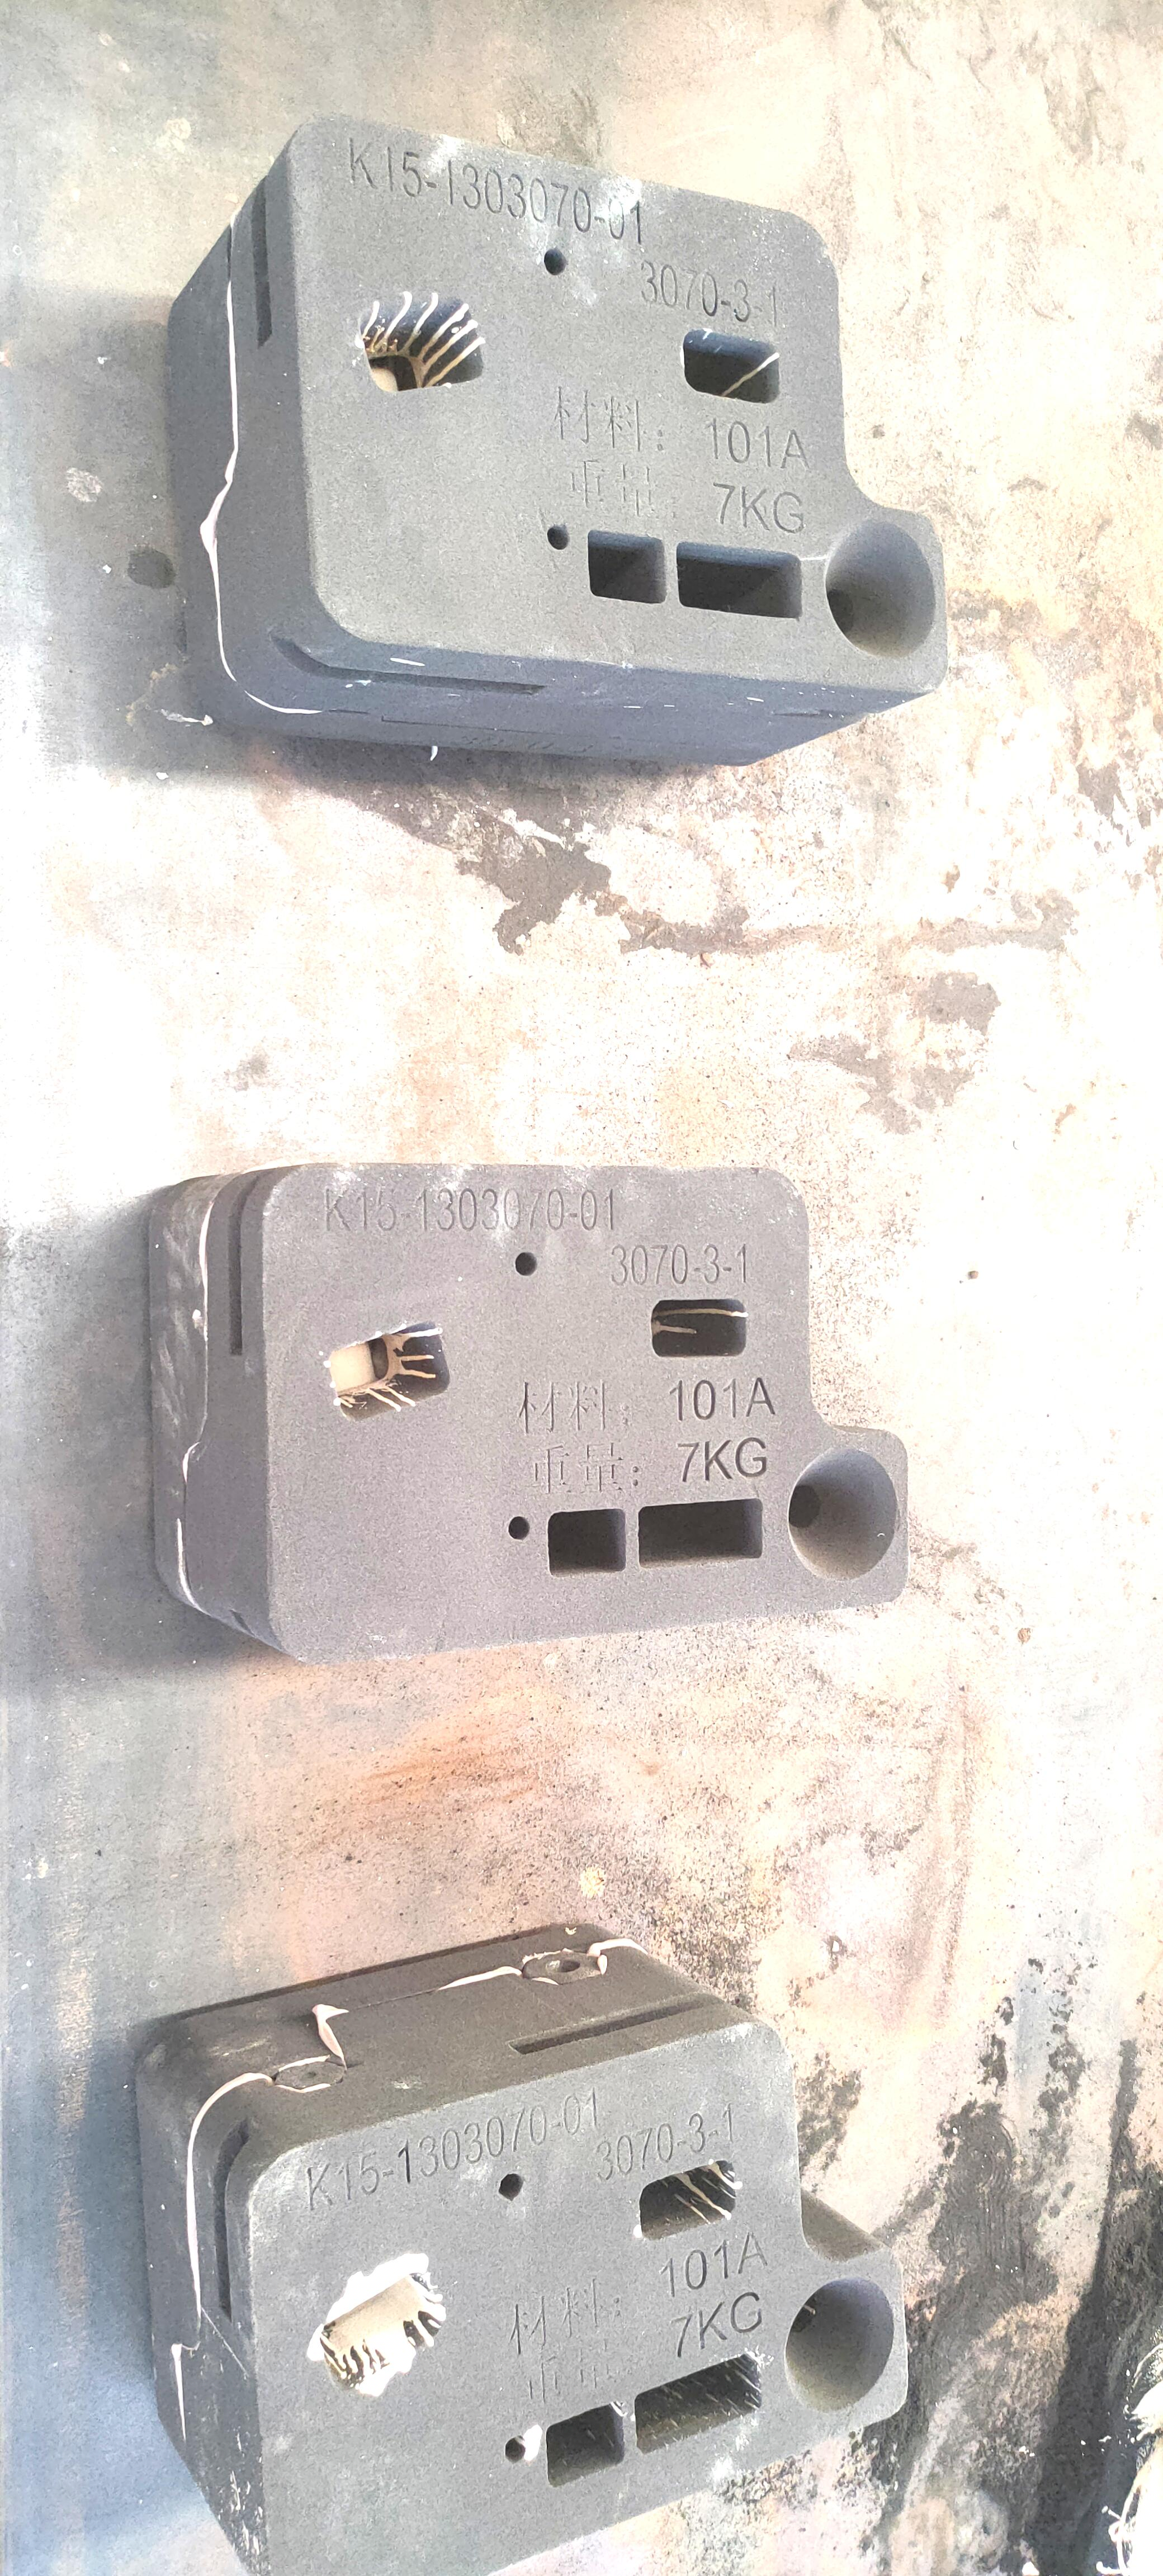pouring hole: (820, 516, 940, 667), (784, 1444, 897, 1585), (785, 2274, 892, 2417)
